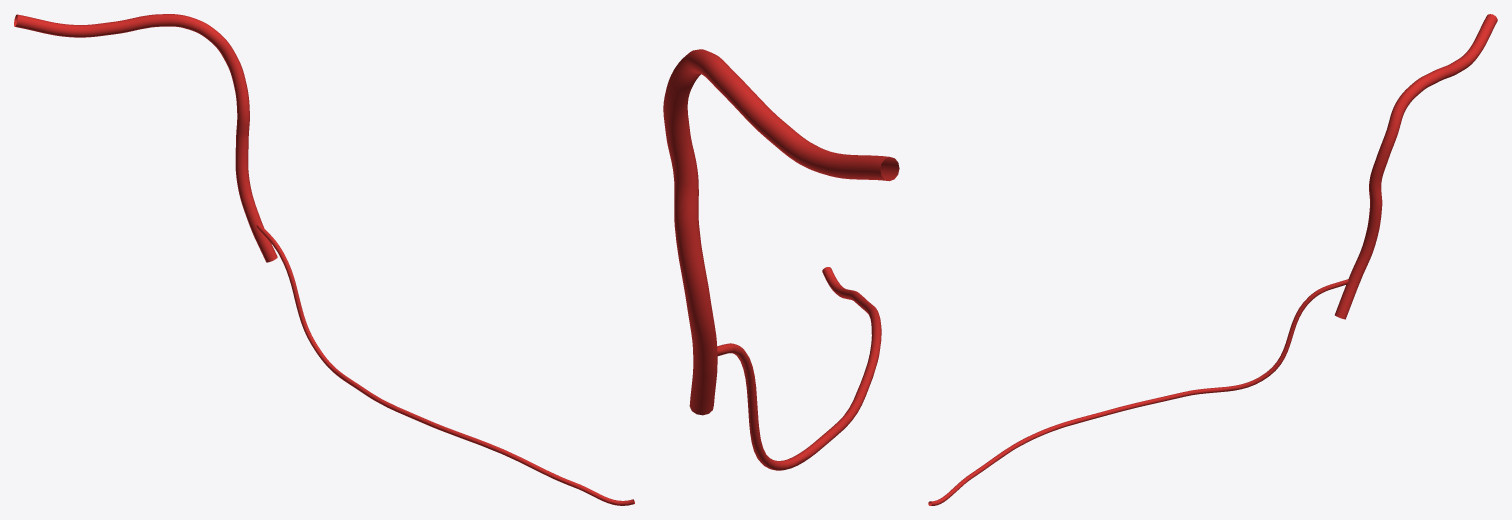
Rendered from circulatorio-descending-palatine-artery-r.glb.
3 views of the same model, side by side, from view 1: azimuth 30°, elevation 25°; view 2: azimuth 150°, elevation 25°; view 3: azimuth 270°, elevation 25° (orthographic). The views are drawn at different scales.
Visible parts, largest first — view 1: Descending palatine artery.r, Greater palatine artery.r; view 2: Descending palatine artery.r, Greater palatine artery.r; view 3: Descending palatine artery.r, Greater palatine artery.r.
Part boxes in pixels (bbox=[...]): Descending palatine artery.r: bbox=[14, 14, 277, 262]; Greater palatine artery.r: bbox=[256, 223, 634, 505]; Descending palatine artery.r: bbox=[663, 49, 899, 415]; Greater palatine artery.r: bbox=[717, 267, 881, 470]; Descending palatine artery.r: bbox=[1335, 14, 1497, 319]; Greater palatine artery.r: bbox=[928, 279, 1348, 505].
Bounding box in the file's own units: 0.0299 × 0.031 × 0.0467.
